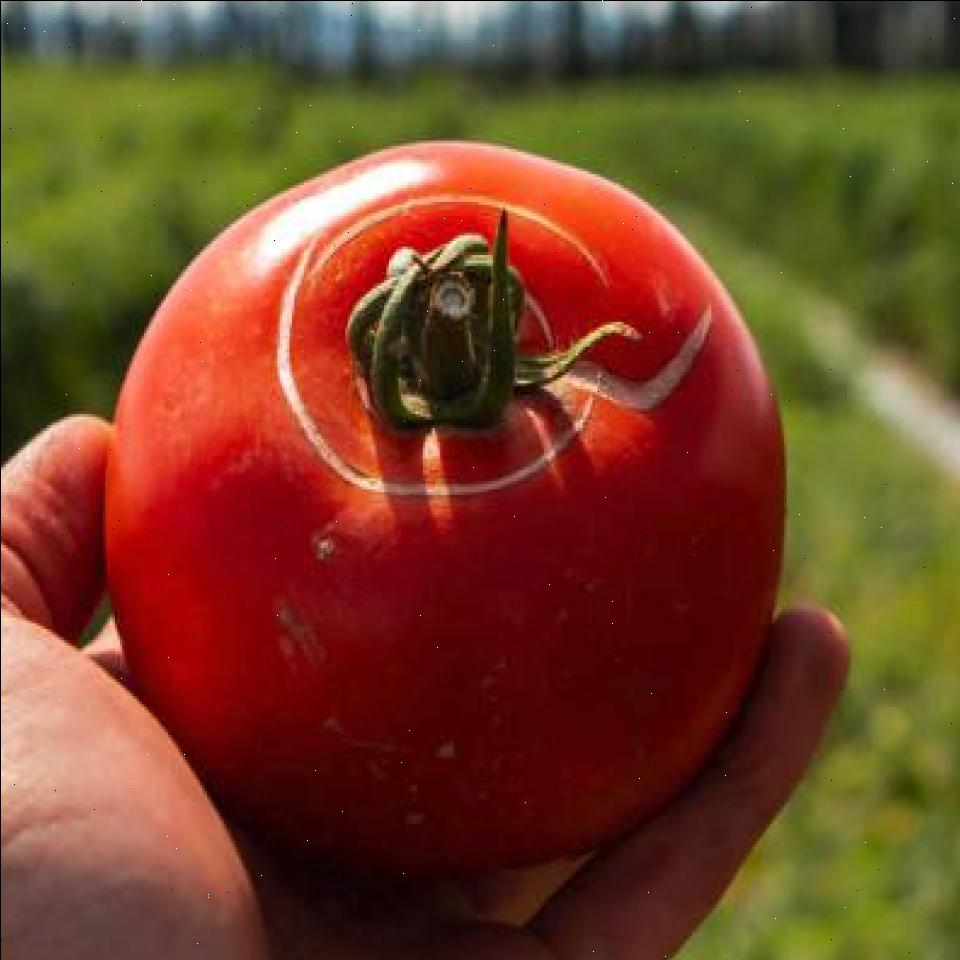Cracking: (275, 180, 722, 546)
